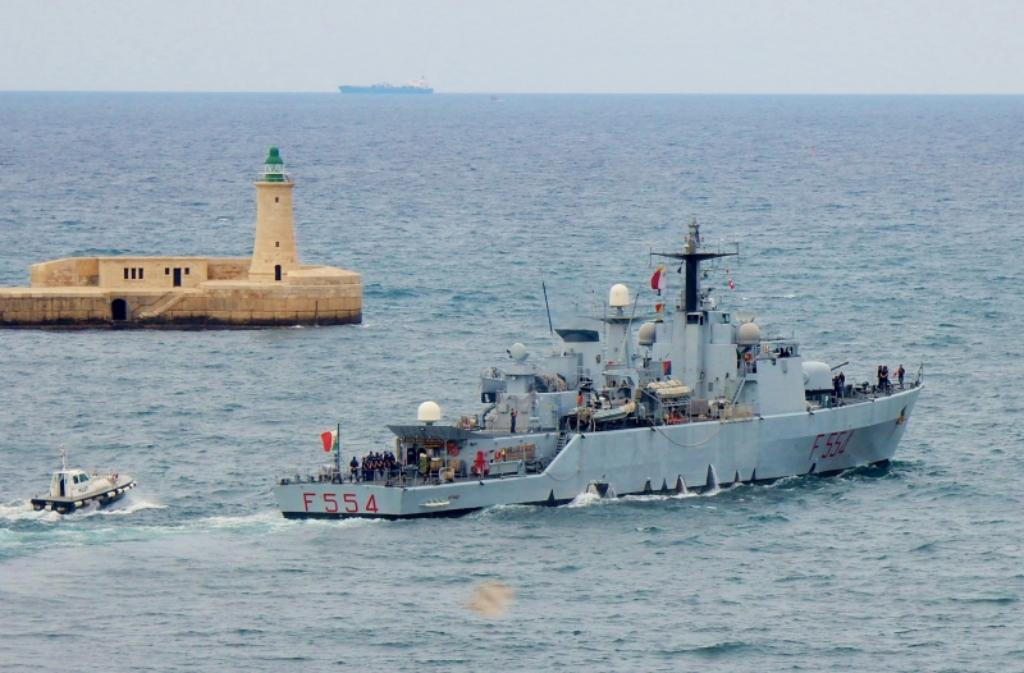Warship: (272, 213, 928, 521)
